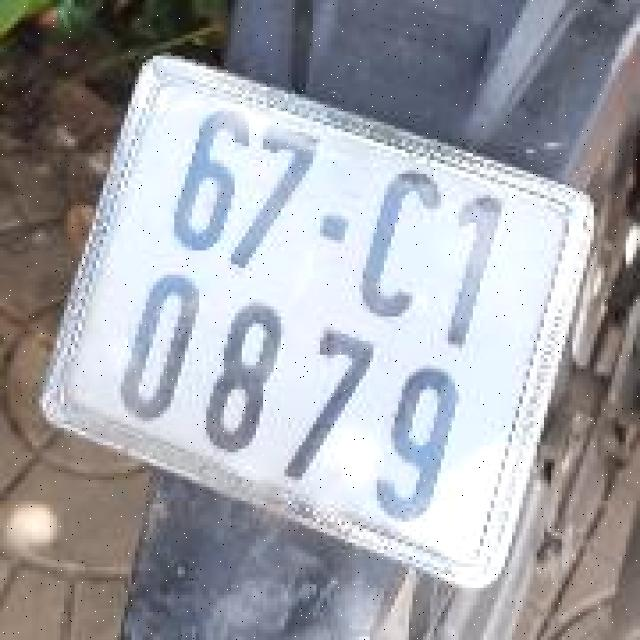0: (105, 262, 217, 436)
1: (429, 179, 522, 364)
6: (159, 103, 264, 262)
7: (274, 320, 395, 491), (219, 114, 339, 280)
8: (188, 289, 304, 470)
9: (363, 353, 474, 536)
C: (343, 157, 461, 333)
